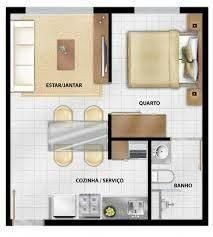room: (7, 7, 110, 226), (112, 6, 203, 137), (150, 137, 202, 220)
wall: (1, 4, 14, 227), (200, 3, 212, 229), (45, 218, 213, 228), (145, 133, 155, 225), (106, 3, 114, 85), (93, 3, 136, 17), (106, 135, 172, 143), (104, 112, 114, 162), (180, 4, 211, 16), (4, 2, 27, 17)
window: (25, 2, 93, 19), (134, 4, 181, 17), (12, 218, 45, 227)
